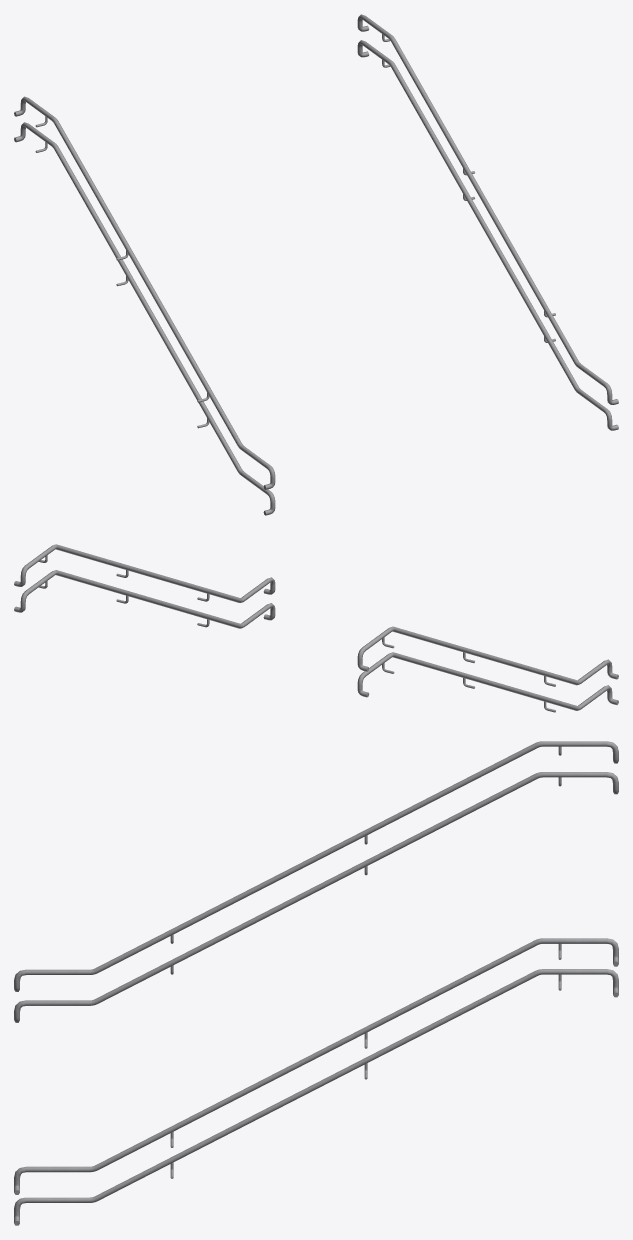
The model's file is gteki_ik_stair_n9_r165_t292_w2698_rails_wall.glb.
3 views of the same model, one above another, from view 1: azimuth 30°, elevation 25°; view 2: azimuth 150°, elevation 25°; view 3: azimuth 270°, elevation 25° (orthographic). The views are drawn at different scales.
Parts seen in each view (by area): view 1: VIS_handrails; view 2: VIS_handrails, VIS_rail_supports; view 3: VIS_handrails.
Boxes of the visible parts, x1=… form: VIS_handrails: x1=14, y1=14, x2=618, y2=515; VIS_handrails: x1=14, y1=544, x2=618, y2=710; VIS_rail_supports: x1=39, y1=555, x2=555, y2=712; VIS_handrails: x1=14, y1=741, x2=618, y2=1225.
Size of the model in its own units: 2.92 by 1.84 by 3.56.
Materials: 1 (1 with a texture image).
